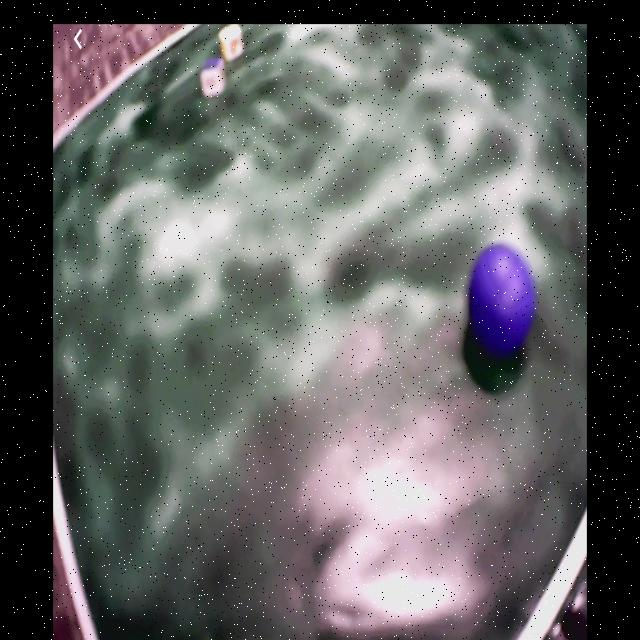ball: (469, 247, 535, 349)
